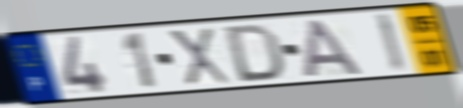1: (119, 30, 159, 92)
4: (60, 34, 108, 96)
A: (302, 18, 366, 79)
D: (224, 22, 286, 85)
I: (372, 11, 410, 75)
X: (165, 25, 234, 88)
